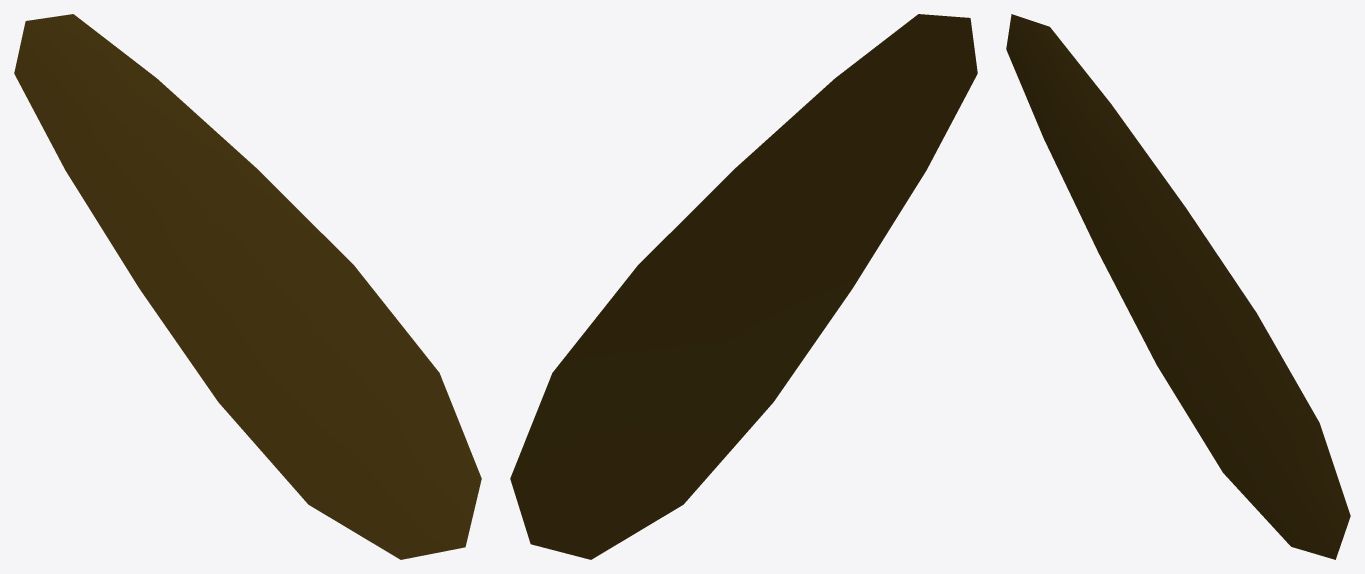
Rendered from canary_feather_flight_primary_012.obj.
3 views of the same model, side by side, from view 1: azimuth 30°, elevation 25°; view 2: azimuth 150°, elevation 25°; view 3: azimuth 330°, elevation 25° (orthographic). The views are drawn at different scales.
Visible parts, largest first — view 1: feather_flight_primary_012; view 2: feather_flight_primary_012; view 3: feather_flight_primary_012.
Boxes of the visible parts, x1,y1,x2,y2 form: feather_flight_primary_012: (14, 14, 481, 559); feather_flight_primary_012: (510, 14, 977, 559); feather_flight_primary_012: (1006, 14, 1350, 559).
Size of the model in its own units: 0.0199 by 0.0257 by 0.000155.
